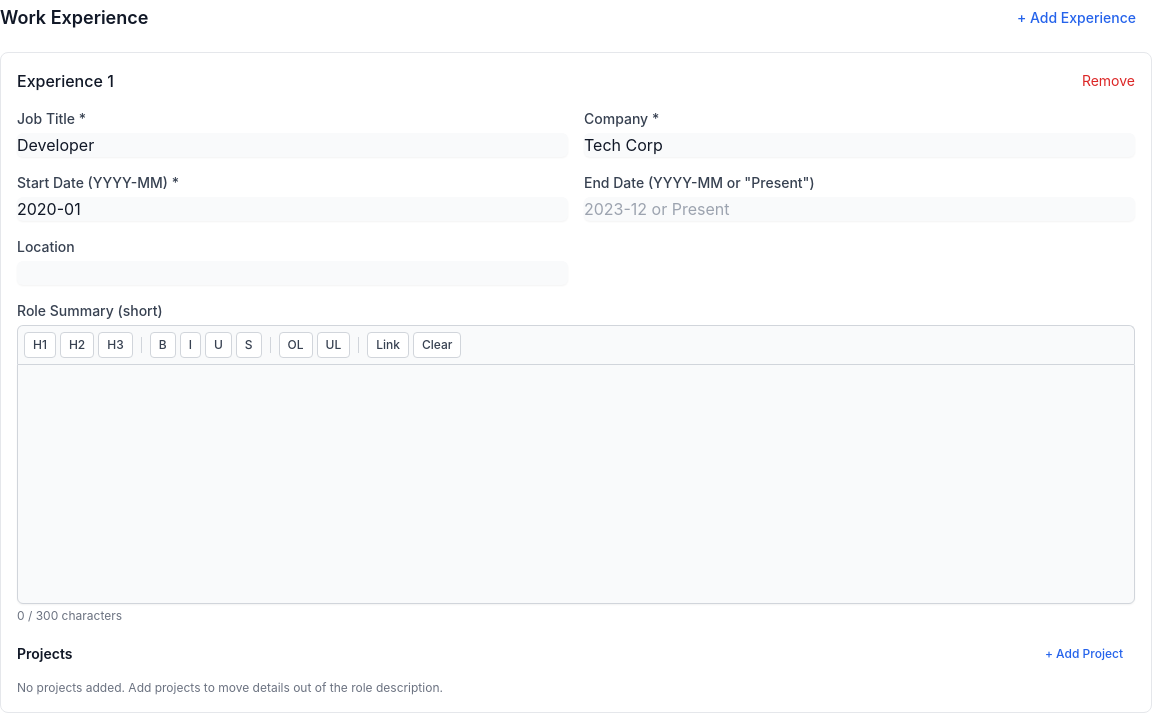
Test: Experience › removes experience entry
This screenshot has width=1152, height=720.
Click the button "Remove" at (1108, 81), box [1082,71,1135,91]
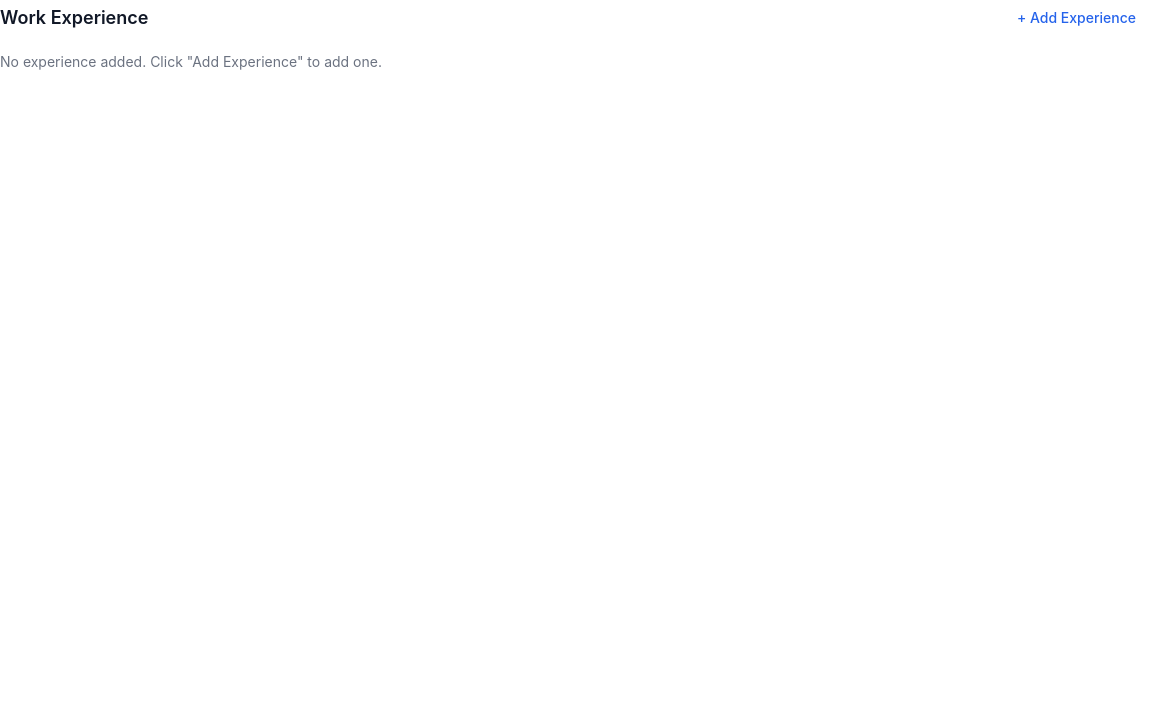
Check: the text "No experience added. Click \"Add Experience\" to add one." is shown, box [0,53,382,70]
